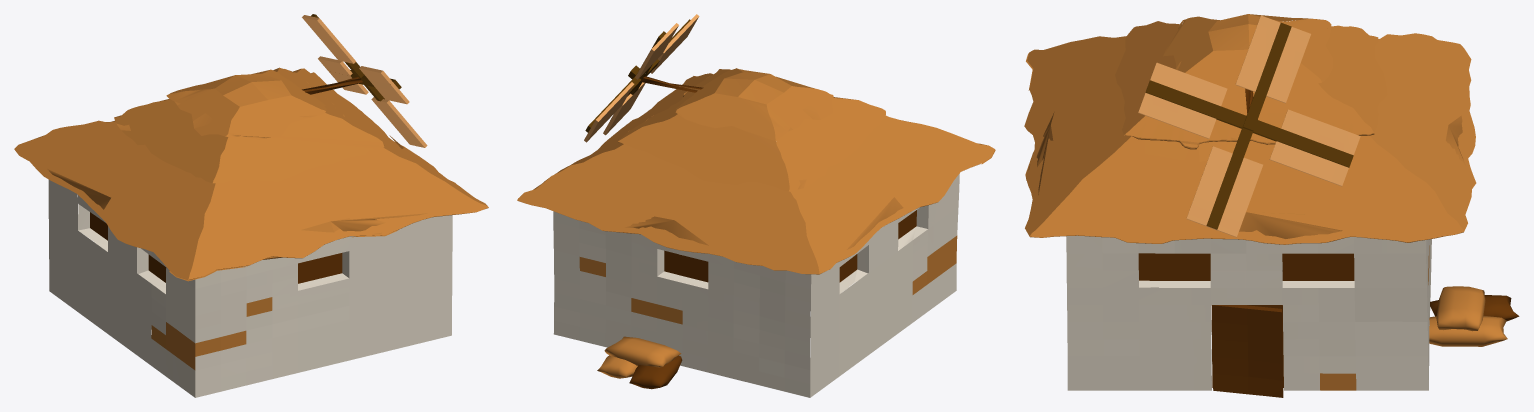
The model's file is millAni.gltf.
3 views of the same model, side by side, from view 1: azimuth 30°, elevation 25°; view 2: azimuth 150°, elevation 25°; view 3: azimuth 270°, elevation 25° (orthographic). The views are drawn at different scales.
Visible parts, largest first — view 1: MillBody, MillTop; view 2: MillBody, MillTop; view 3: MillBody, MillTop.
Part boxes in pixels (<box>): MillBody: <box>14,67,488,397</box>; MillTop: <box>302,14,427,147</box>; MillBody: <box>517,68,995,397</box>; MillTop: <box>584,14,699,142</box>; MillBody: <box>1024,14,1519,397</box>; MillTop: <box>1138,15,1360,237</box>.
Size of the model in its own units: 7.22 by 6.03 by 7.88.
